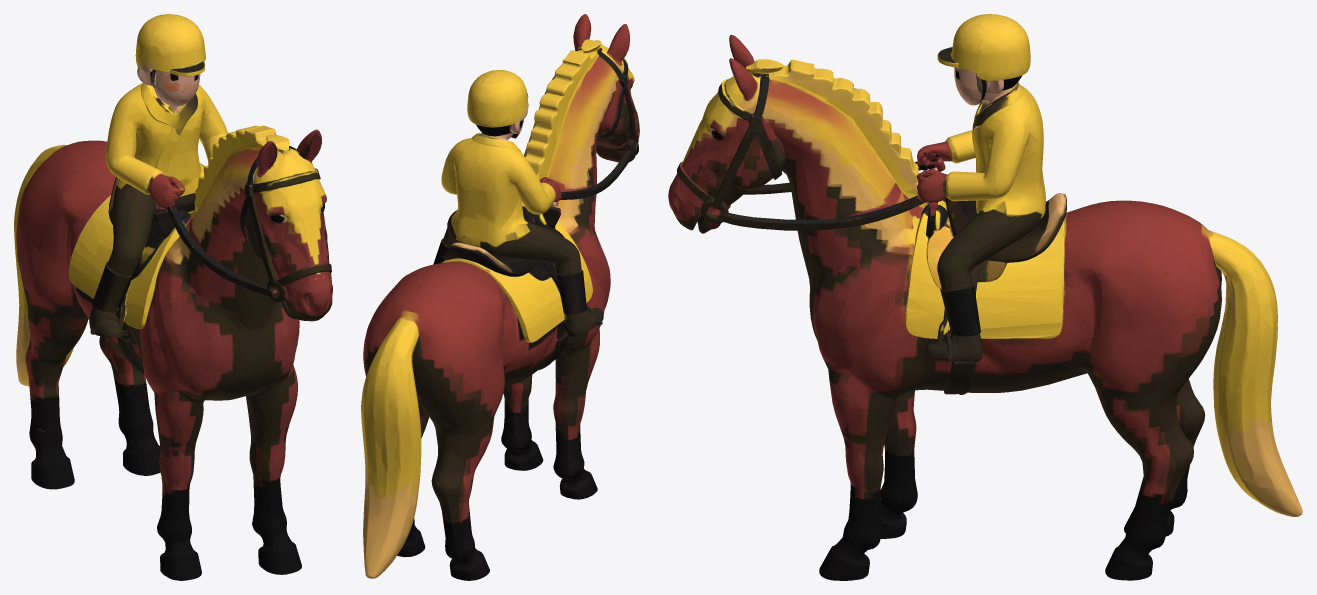
The model's file is meshy-ipe.glb.
3 views of the same model, side by side, from view 1: azimuth 30°, elevation 25°; view 2: azimuth 150°, elevation 25°; view 3: azimuth 270°, elevation 25° (orthographic). The views are drawn at different scales.
Size of the model in its own units: 0.7274 by 1.77 by 1.9.
1 material, 1 textured.
